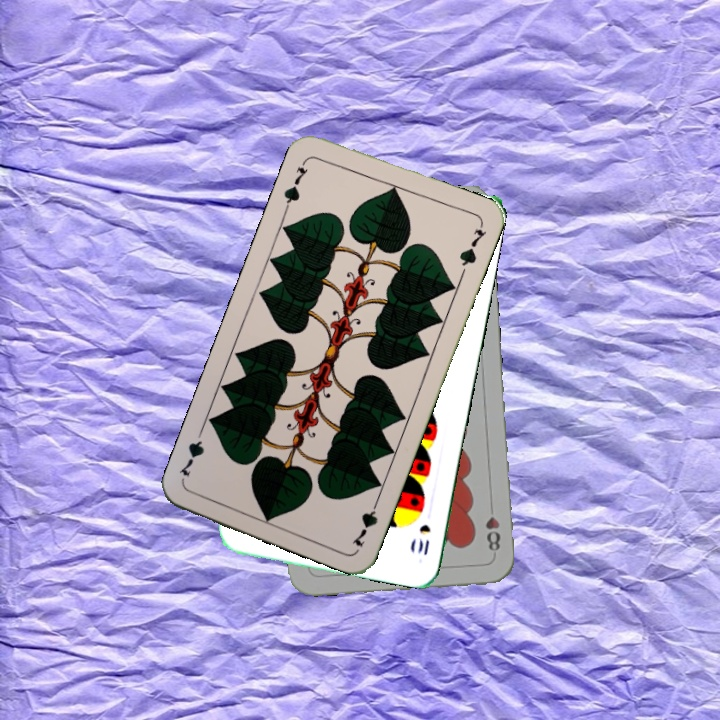G7: (348, 493, 382, 550), (279, 155, 311, 212)
H8: (481, 513, 503, 554)
S10: (413, 520, 433, 558)
